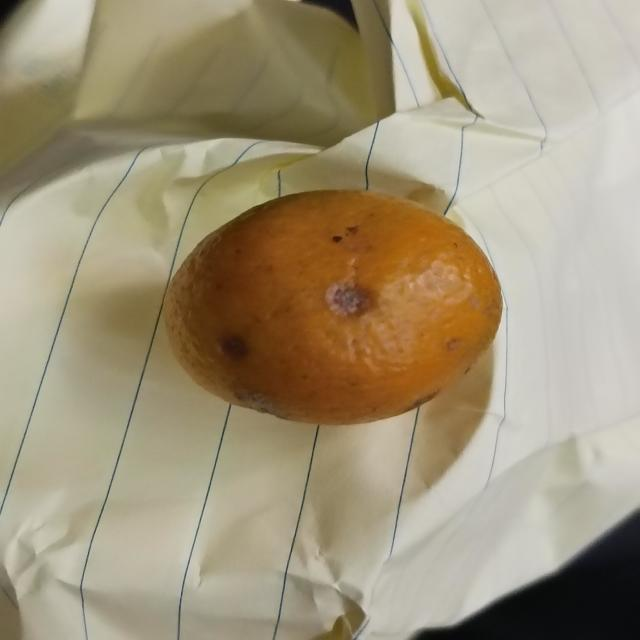black spot: (160, 187, 504, 430)
